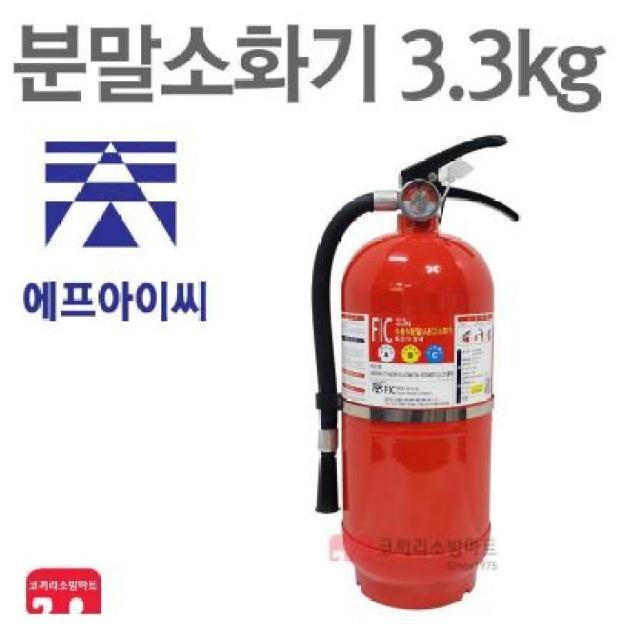fire extinguisher: (311, 134, 520, 611)
